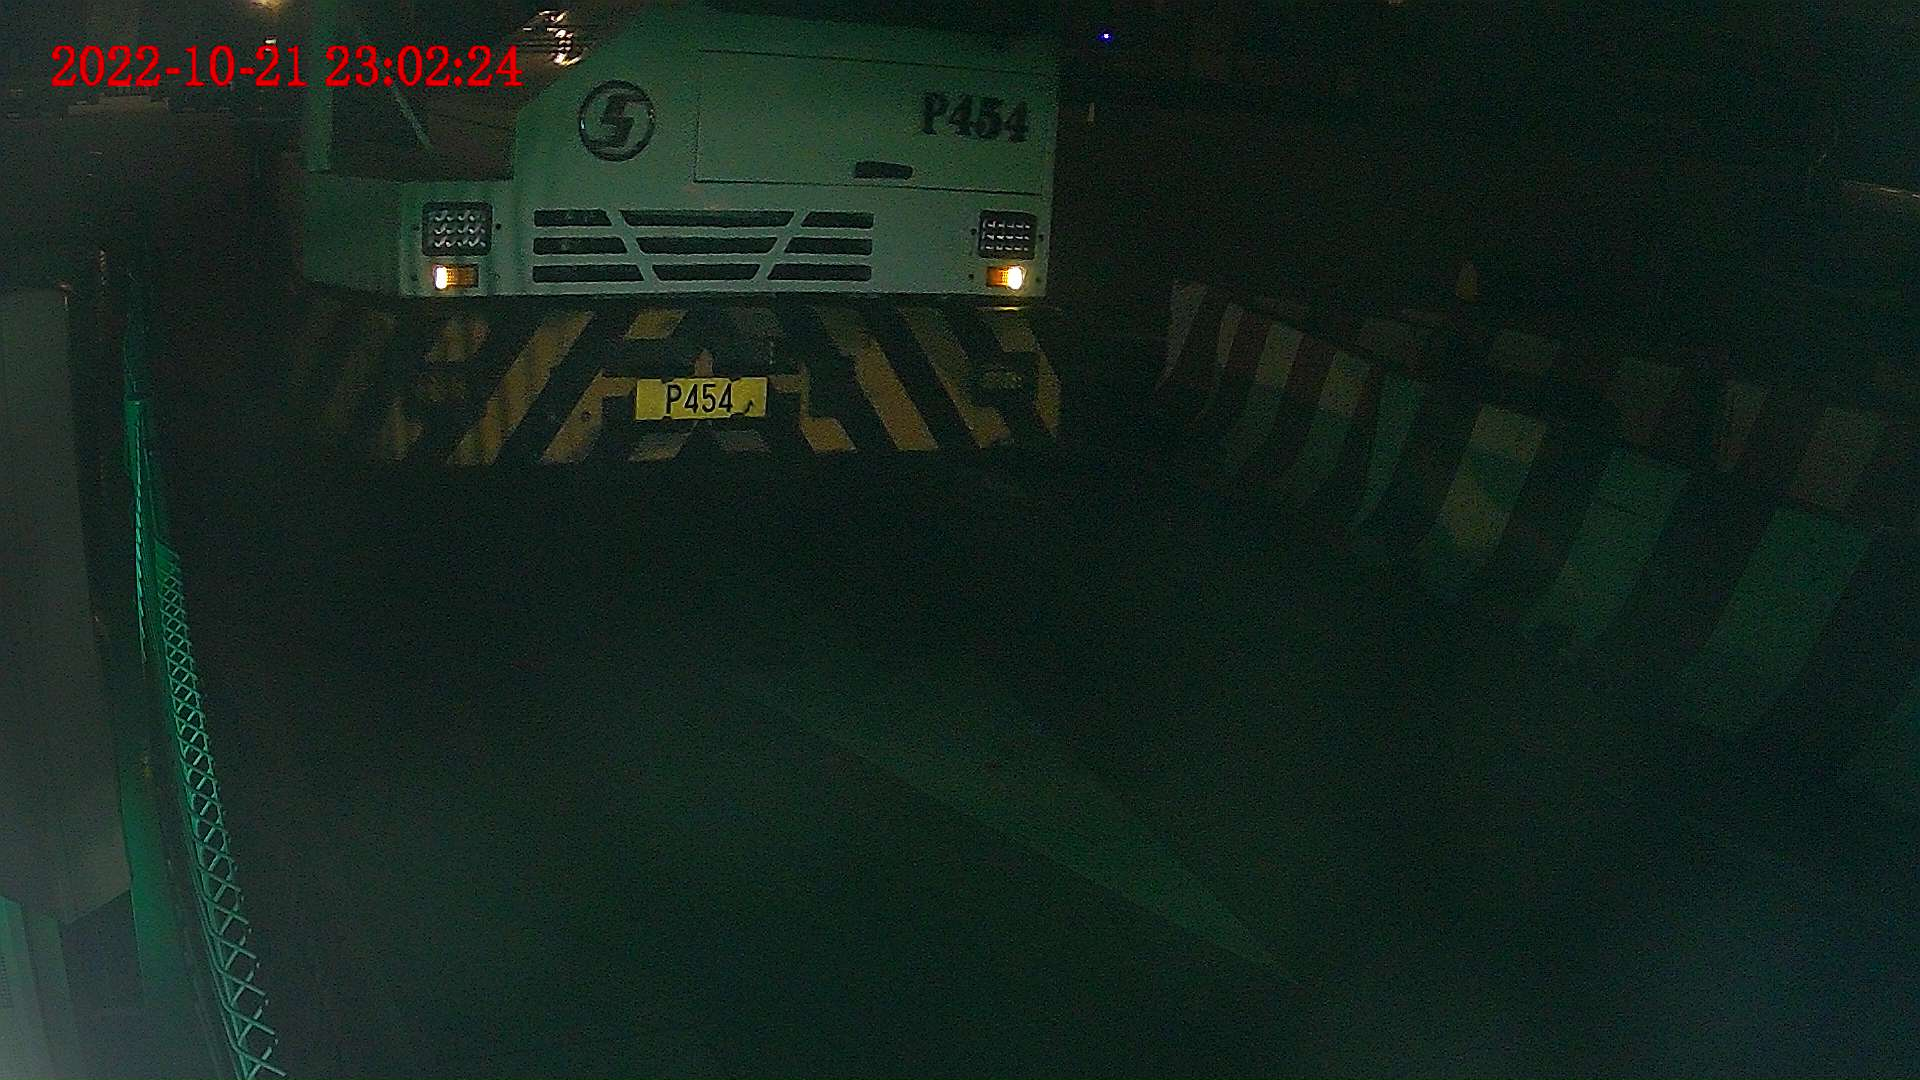head: (209, 1, 1063, 492)
plate: (627, 376, 768, 417)
